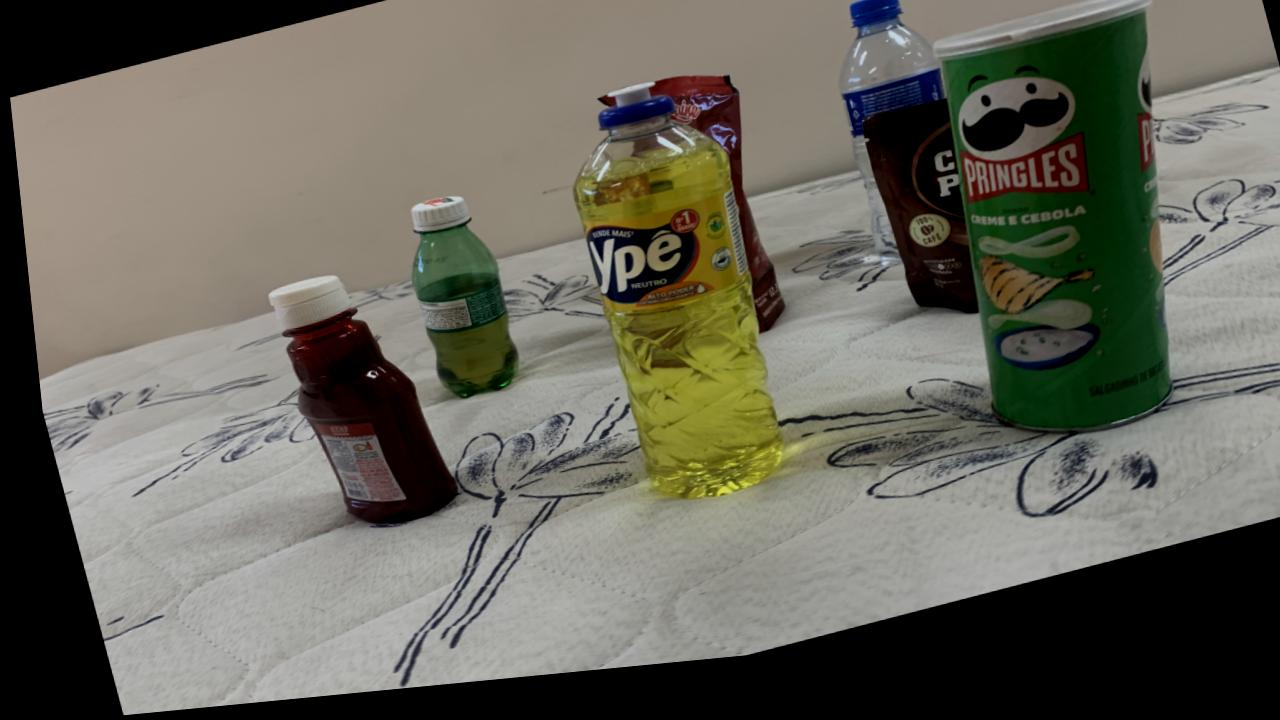Coffee-Pantry_Items: (858, 118, 969, 332)
Detergent-Cleanup_Items: (568, 97, 772, 511)
Guarana-Drinks: (569, 100, 772, 511), (405, 204, 510, 405)
Ketchup-Pantry_Items: (262, 281, 446, 531)
Pringles-Snacks: (932, 12, 1162, 452)
Tomato_Sauce-Pantry_Items: (647, 88, 777, 346)
Water_Bottle-Drinks: (834, 9, 941, 273)
